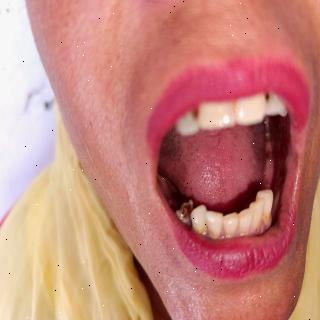calculus: (263, 212, 277, 226), (200, 223, 210, 237)
cavities: (170, 196, 198, 222)
